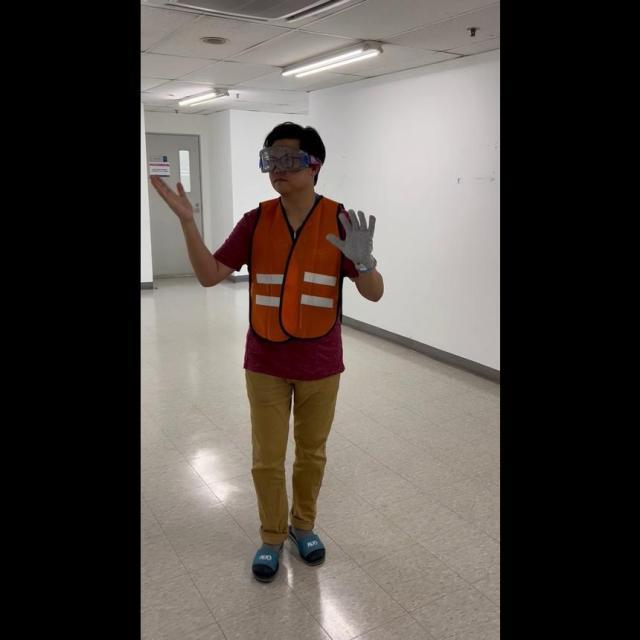bare_hand: (149, 173, 196, 227)
gloved_hand: (326, 202, 379, 271)
